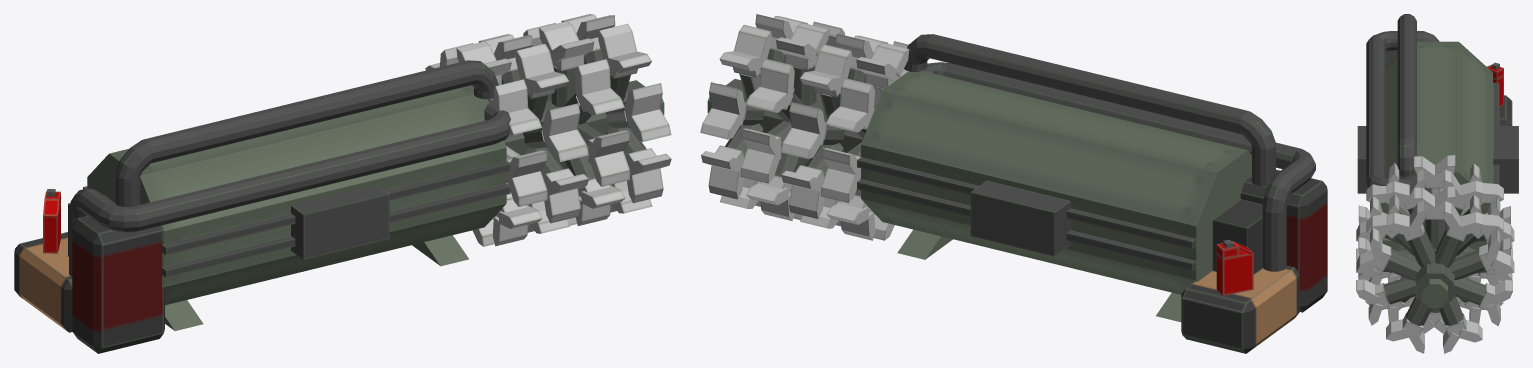
Rendered from industrial_combustian_generator.obj.
The picture shows the model from 3 angles, left to right: view 1: azimuth 30°, elevation 25°; view 2: azimuth 150°, elevation 25°; view 3: azimuth 270°, elevation 25°; orthographic projection. The views are drawn at different scales.
Parts seen in each view (by area): view 1: cylinder; view 2: cylinder; view 3: cylinder.
Boxes of the visible parts, x1,y1,x2,y2 form: cylinder: (14,14,671,353); cylinder: (700,14,1327,353); cylinder: (1356,14,1518,353).
Size of the model in its own units: 5.19 by 1.63 by 1.58.
